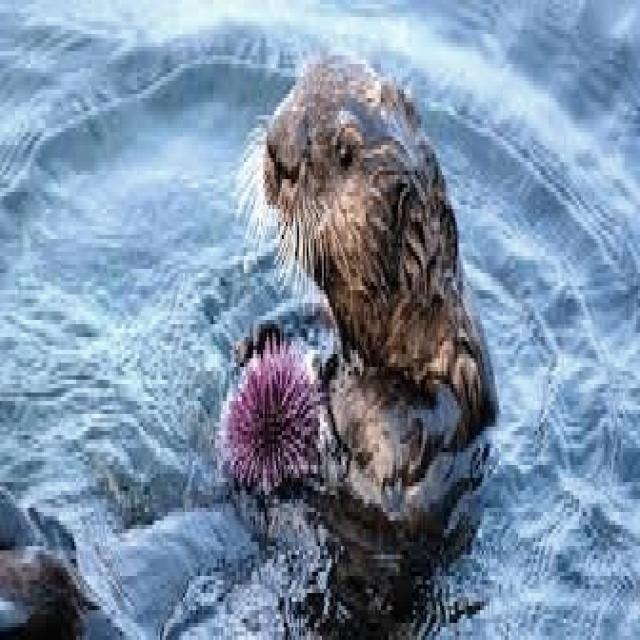otter: (265, 55, 497, 525)
